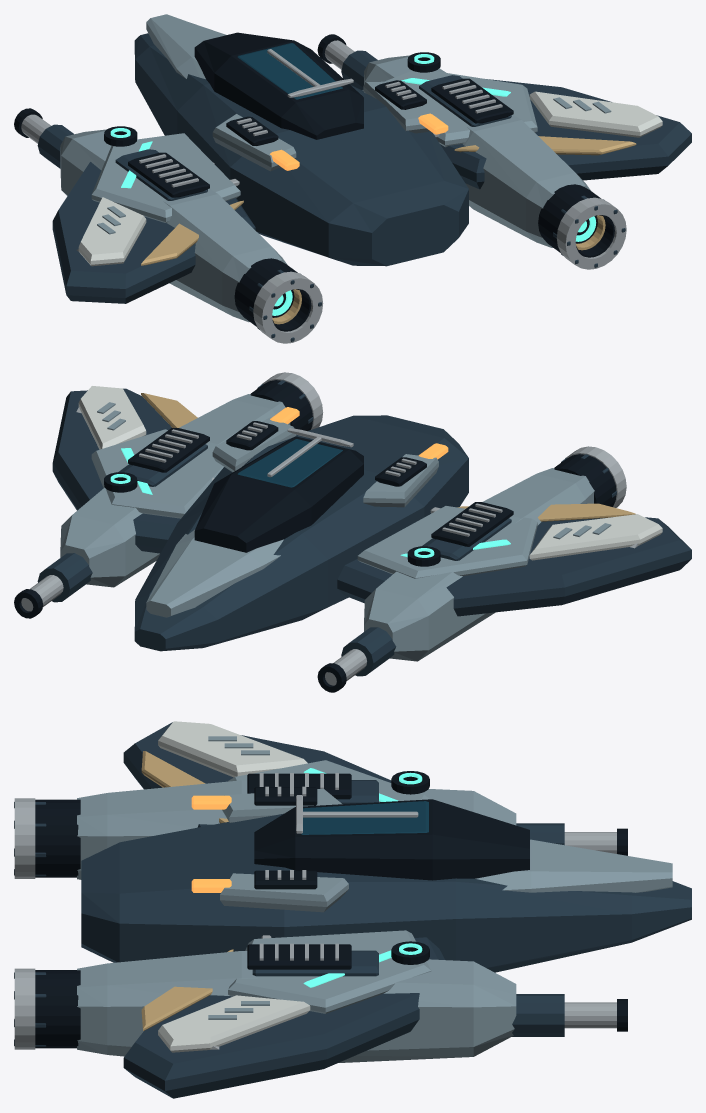
Rendered from kestrel.glb.
3 views of the same model, one above another, from view 1: azimuth 30°, elevation 25°; view 2: azimuth 150°, elevation 25°; view 3: azimuth 270°, elevation 25° (orthographic). The views are drawn at different scales.
Parts seen in each view (by area): view 1: kestrel; view 2: kestrel; view 3: kestrel.
Part boxes in pixels (box(x1,y1,x2,y2)): kestrel: box(14, 14, 691, 343); kestrel: box(14, 372, 691, 692); kestrel: box(14, 721, 691, 1098).
Size of the model in its own units: 6.06 by 1.26 by 4.94.
